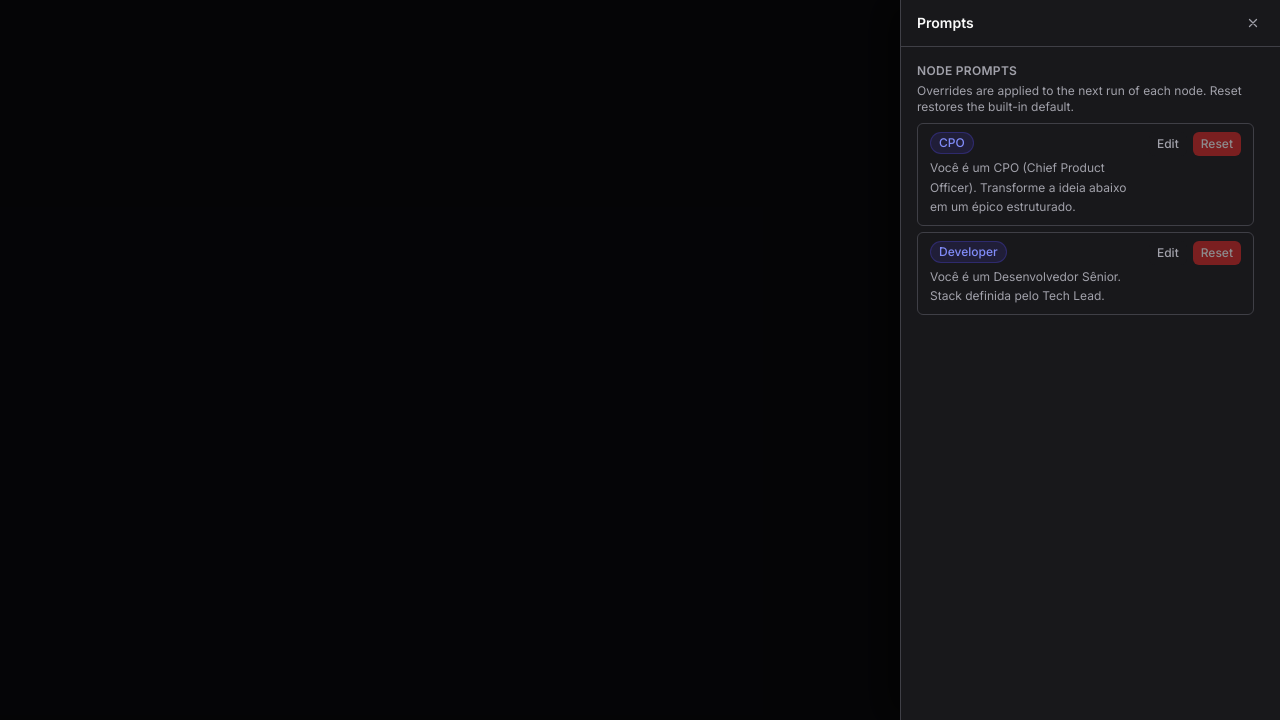
Test case: PromptPanel (prompt central) › disables Save while the draft is empty
Expected: the text "CPO" is shown, top-left (930, 132), bottom-right (974, 154)
Click the button with aria-label "Edit cpo prompt" at (1168,144), box top-left (1149, 132), bottom-right (1187, 156)
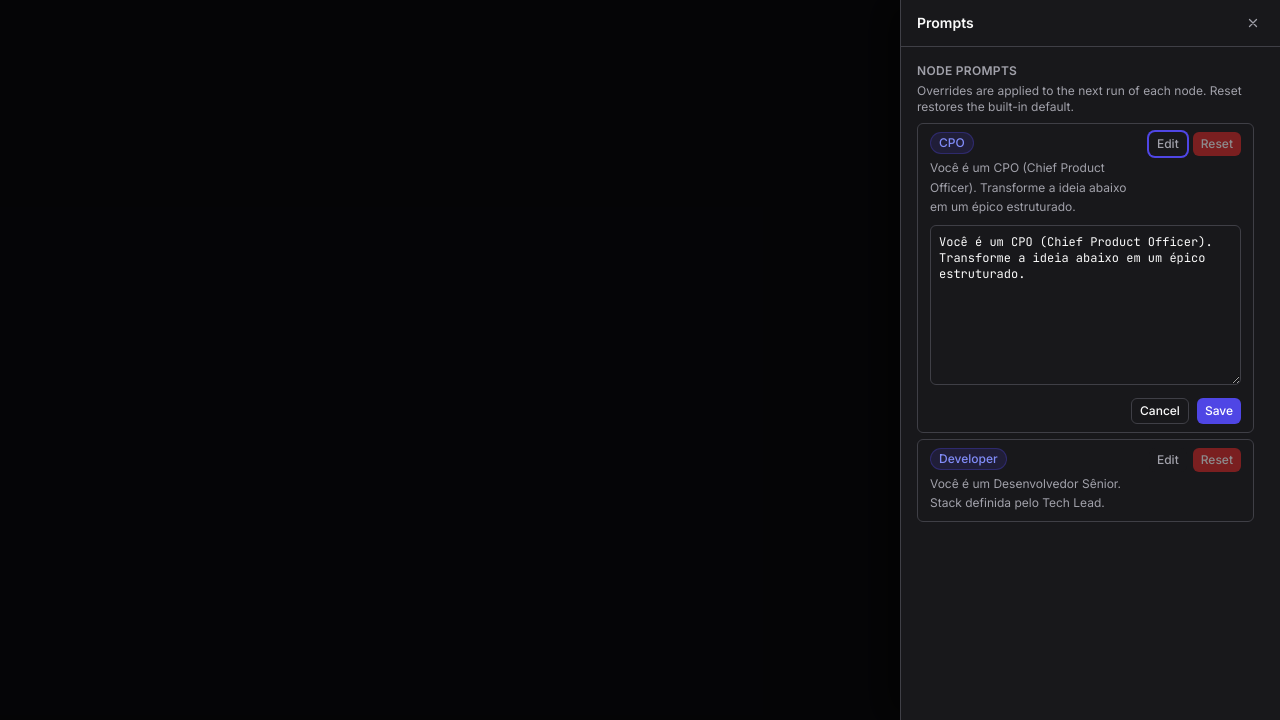
Expected: the text box named "cpo prompt text" is shown
Clear the text box named "cpo prompt text" at (1086,304), box top-left (930, 224), bottom-right (1241, 384)
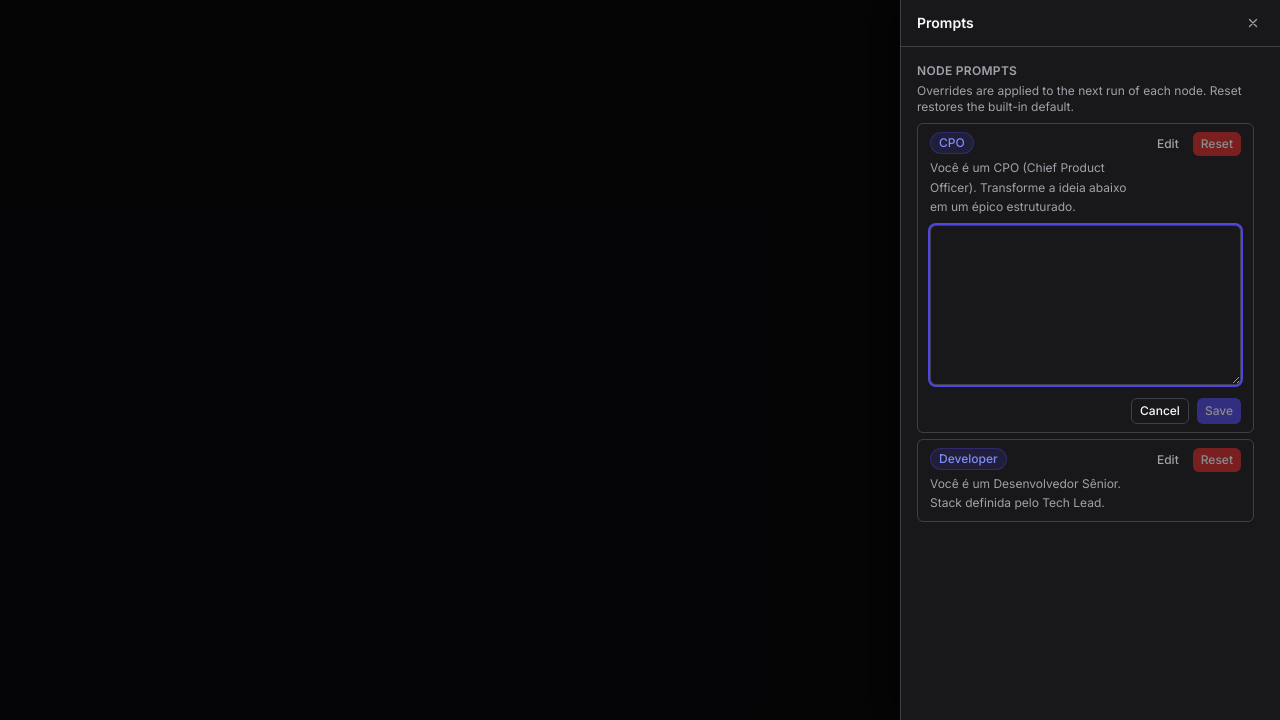
Expected: the button "Save" is disabled, top-left (1197, 398), bottom-right (1241, 424)
